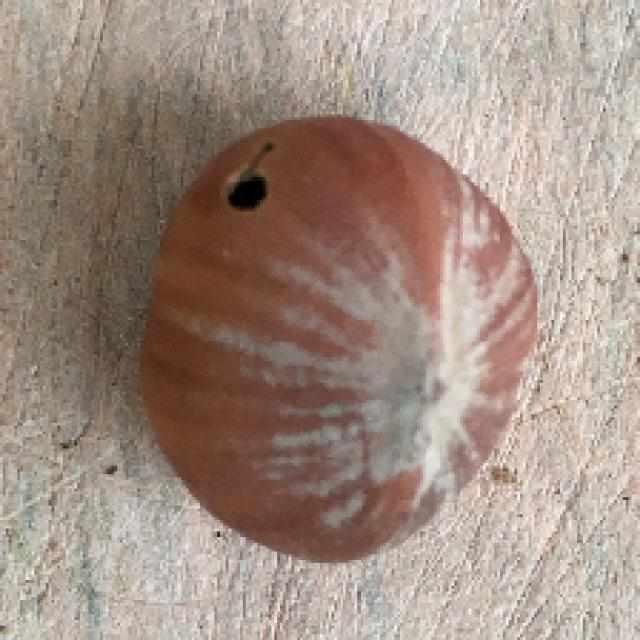damagedHazelnut: (145, 115, 539, 566)
